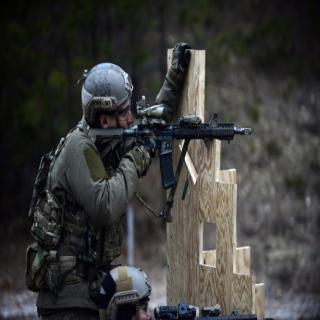gun: (90, 96, 250, 190)
